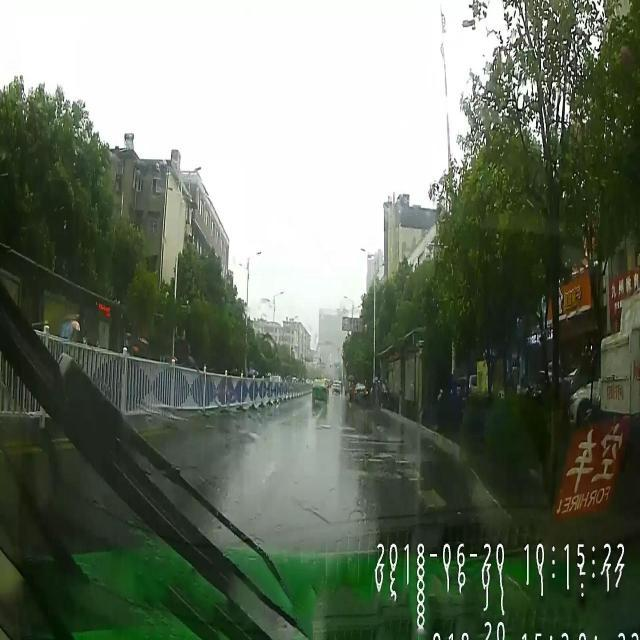car: (311, 378, 328, 403), (351, 384, 367, 404)
